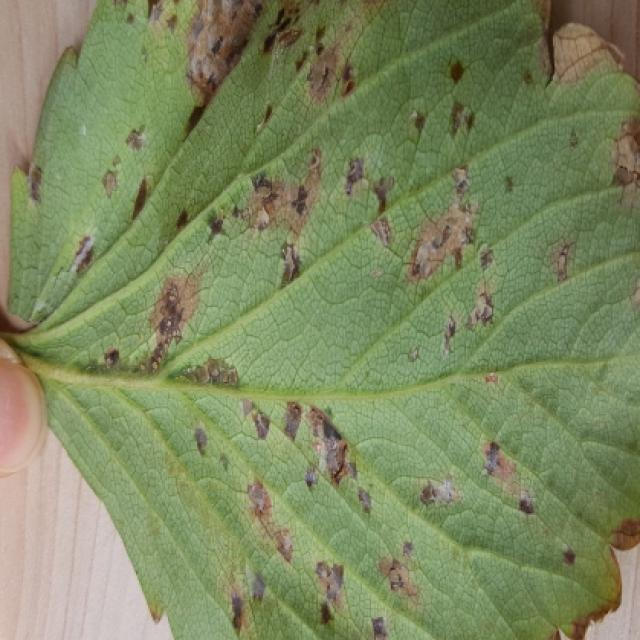Angular Leafspot: (5, 0, 638, 638)
